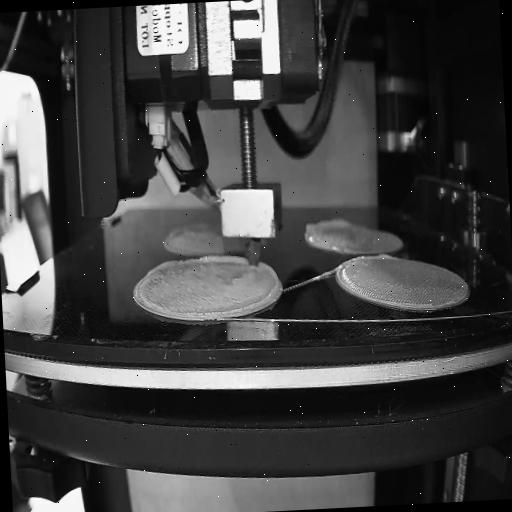over_extrusion: (300, 213, 352, 243), (256, 258, 282, 306), (204, 298, 257, 316), (198, 252, 248, 270), (162, 236, 176, 256), (376, 252, 396, 262)
